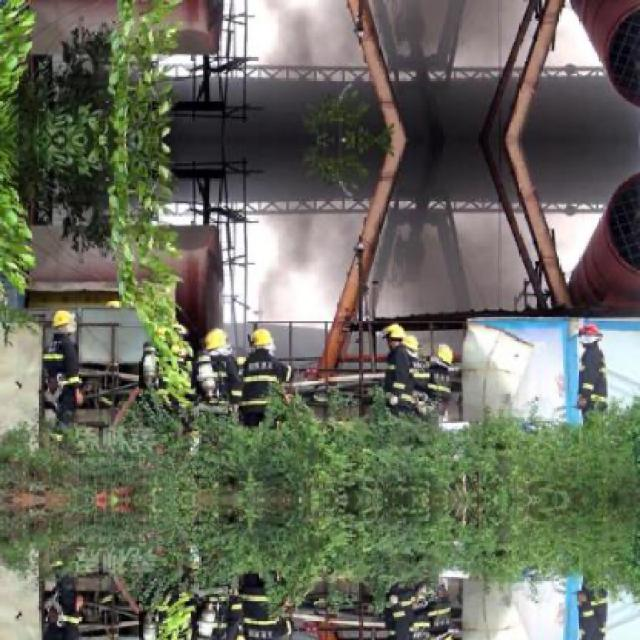con casco: (346, 320, 434, 362), (212, 316, 284, 365), (578, 320, 603, 337)
